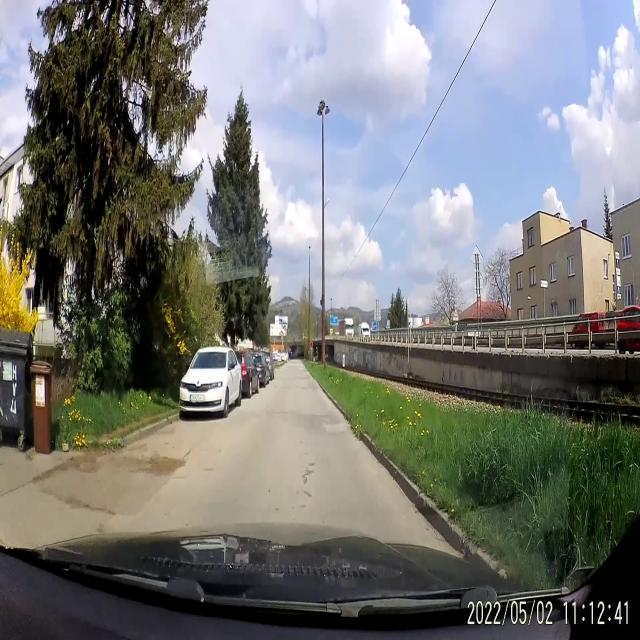Pothole: (46, 451, 182, 522)
